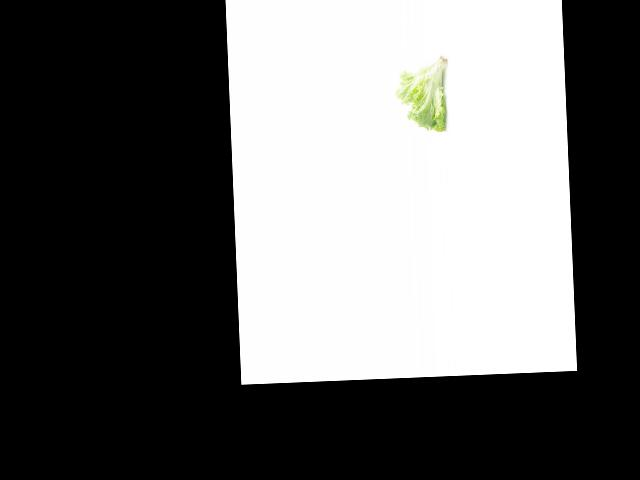lettuce: (393, 53, 451, 133)
